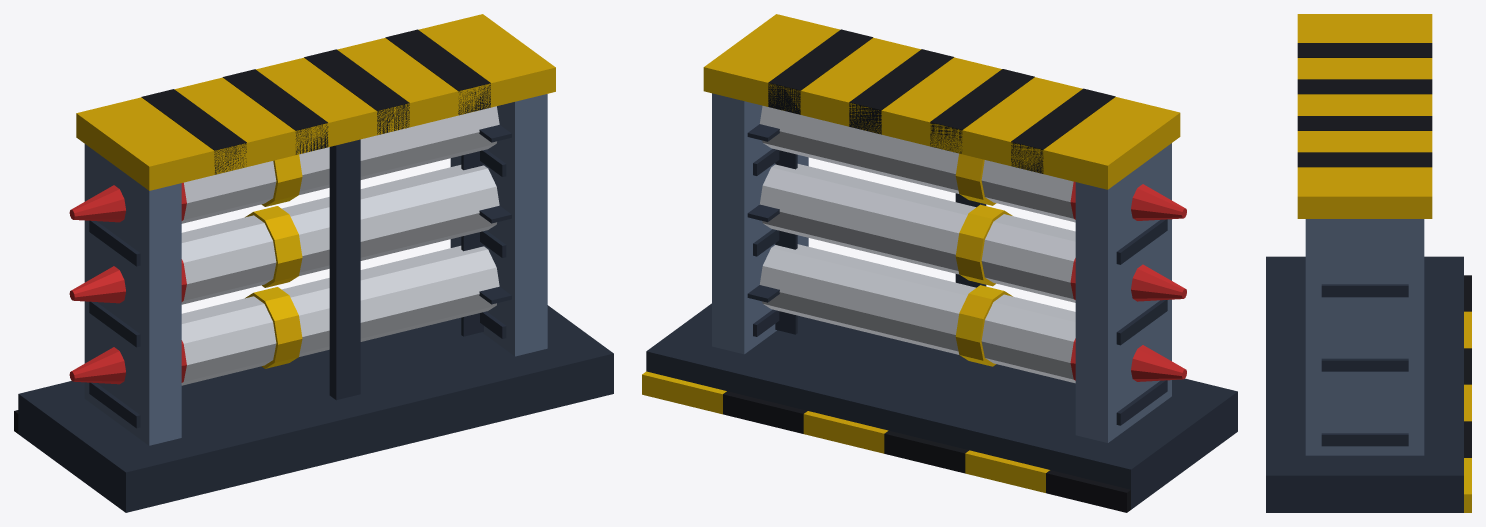
File: Decor_MechaHangar_MissileRack.fbx
3 renders of one model, left to right at view 1: azimuth 30°, elevation 25°; view 2: azimuth 150°, elevation 25°; view 3: azimuth 270°, elevation 25°, orthographic. The views are drawn at different scales.
Parts seen in each view (by area): view 1: MissileRack_Body; view 2: MissileRack_Body; view 3: MissileRack_Body.
Boxes of the visible parts, <box> form: MissileRack_Body: <box>14,14,613,512</box>; MissileRack_Body: <box>642,14,1237,512</box>; MissileRack_Body: <box>1266,14,1471,512</box>.
Size of the model in its own units: 12.6 by 8 by 5.
